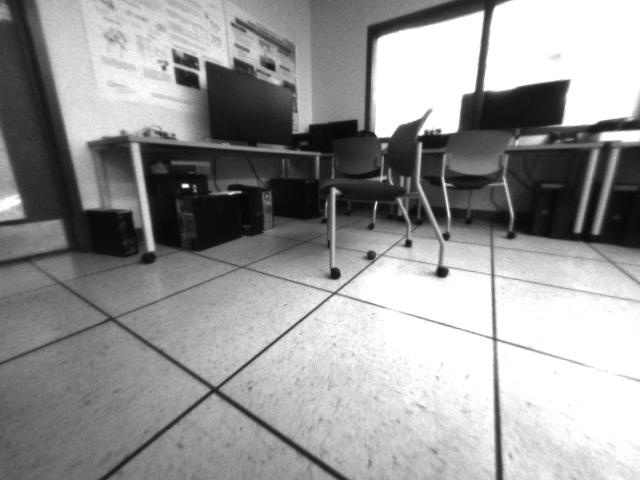dogtoy: (361, 245, 380, 262)
